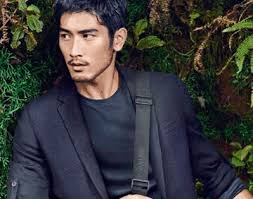asian_male: (52, 16, 117, 77)
